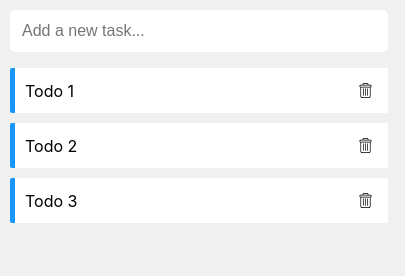
it: App component › When a new todo is added › An error is displayed if the call to the server fails
Type "New Todo" into the field labelled "new task" at (199, 31), box [10,10,388,52]
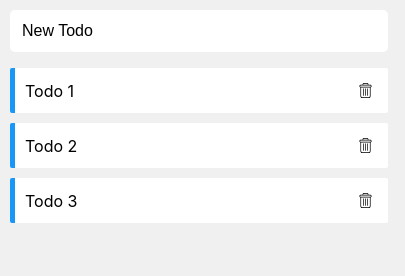
Submit the form from the field named "new task", box [10,10,388,52]
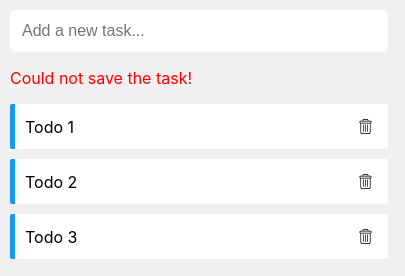
Check: the message shows "save", box [10,68,192,88]
